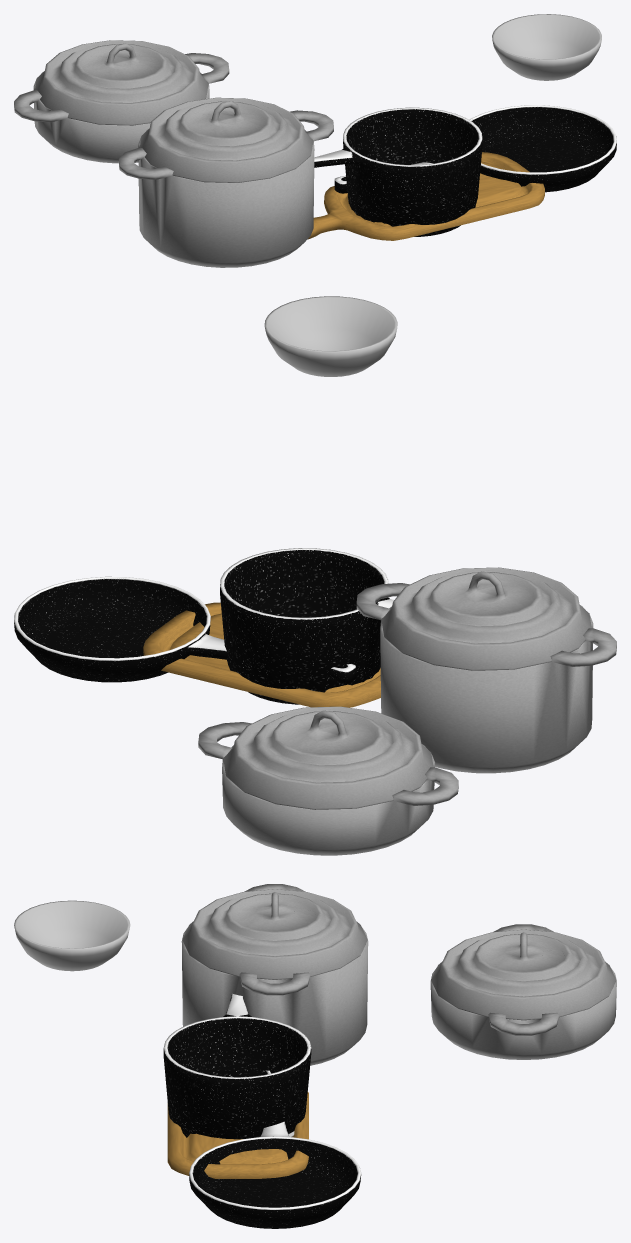
The model's file is plate.glb.
The picture shows the model from 3 angles, top to bottom: view 1: azimuth 30°, elevation 25°; view 2: azimuth 150°, elevation 25°; view 3: azimuth 270°, elevation 25°; orthographic projection. The views are drawn at different scales.
Parts seen in each view (by area): view 1: cookingpot, pan, cookingpotpot, cookingpotpot.001, stove, bowl, cuttingboard, cookingpot.001; view 2: cookingpot, pan, cookingpotpot, cookingpotpot.001, stove, cookingpot.001, bowl, cuttingboard; view 3: pan, cookingpotpot, cookingpotpot.001, cookingpot, stove, cookingpot.001, bowl, cuttingboard.
Part boxes in pixels (<box>): cookingpot: <box>118,110,333,267</box>; pan: <box>314,107,482,236</box>; cookingpotpot: <box>139,97,313,182</box>; cookingpotpot.001: <box>35,40,208,125</box>; stove: <box>334,105,616,193</box>; bowl: <box>492,14,601,80</box>; cuttingboard: <box>307,152,544,240</box>; cookingpot.001: <box>14,53,229,163</box>; cookingpot: <box>356,583,616,773</box>; pan: <box>220,548,393,704</box>; cookingpotpot: <box>381,567,591,670</box>; cookingpotpot.001: <box>223,706,433,809</box>; stove: <box>14,576,355,683</box>; cookingpot.001: <box>198,722,458,855</box>; bowl: <box>264,296,397,376</box>; cuttingboard: <box>143,602,380,707</box>; pan: <box>163,993,311,1139</box>; cookingpotpot: <box>182,889,367,979</box>; cookingpotpot.001: <box>431,929,616,1020</box>; cookingpot: <box>181,884,368,1065</box>; stove: <box>189,1070,361,1228</box>; cookingpot.001: <box>430,924,616,1059</box>; bowl: <box>14,900,130,971</box>; cuttingboard: <box>167,1091,308,1178</box>.
Bounding box in the file's own units: 12.13 × 5.3 × 12.42.
6 materials, 6 textured.
